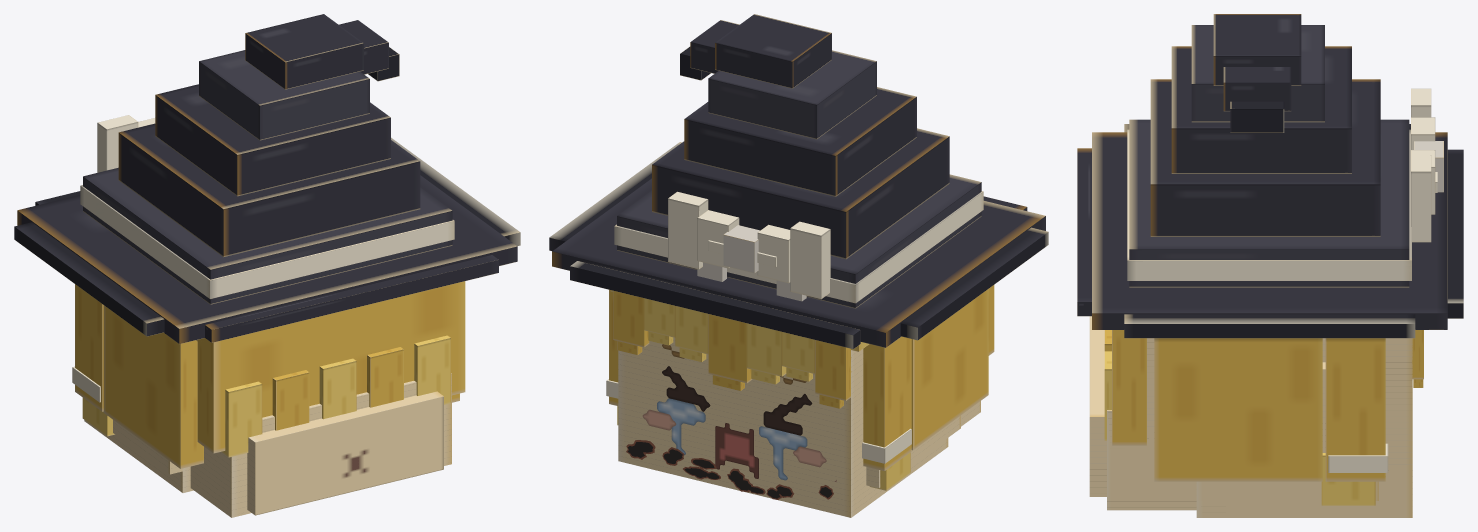
File: scorch_marisa_2.obj
3 renders of one model, left to right at view 1: azimuth 30°, elevation 25°; view 2: azimuth 150°, elevation 25°; view 3: azimuth 270°, elevation 25°, orthographic. The views are drawn at different scales.
Parts seen in each view (by area): view 1: scorch_marisa_2; view 2: scorch_marisa_2; view 3: scorch_marisa_2.
Part boxes in pixels (left/top/right/bottom): scorch_marisa_2: left=14, top=14, right=520, bottom=517; scorch_marisa_2: left=549, top=14, right=1048, bottom=517; scorch_marisa_2: left=1077, top=14, right=1463, bottom=517.
Bounding box in the file's own units: 19 × 19.35 × 15.53.
Materials: 1 (1 with a texture image).
